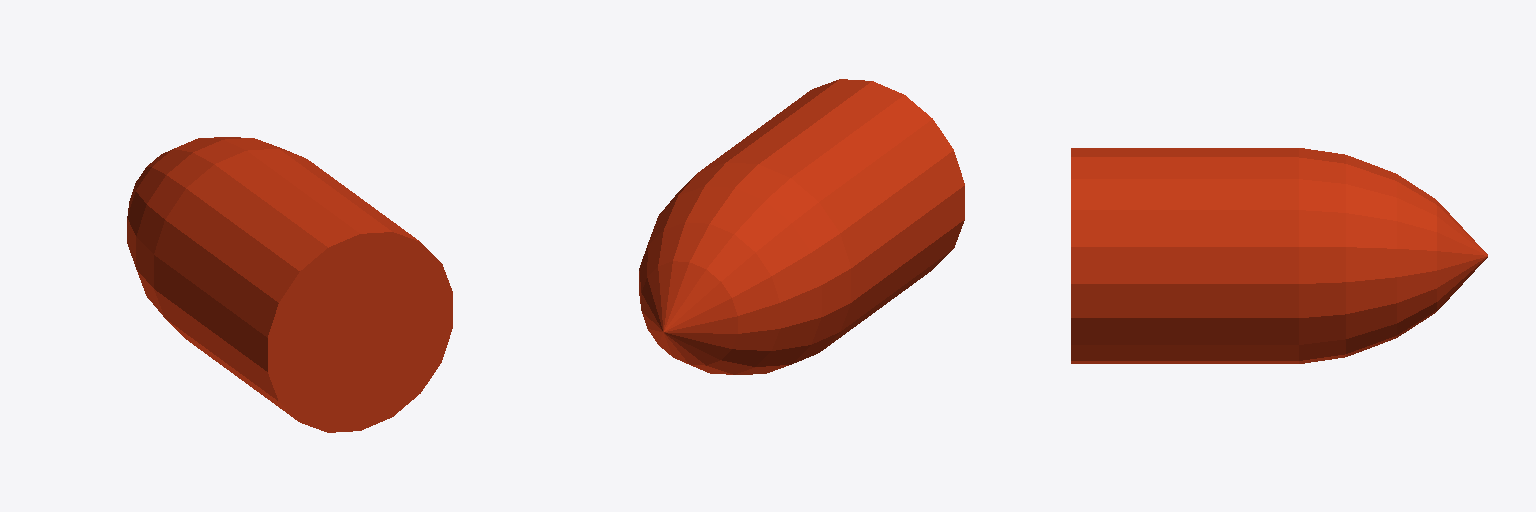
File: tankRound.obj
The picture shows the model from 3 angles: view 1: azimuth 30°, elevation 25°; view 2: azimuth 150°, elevation 25°; view 3: azimuth 270°, elevation 25°; orthographic projection.
Parts seen in each view (by area): view 1: Main_Gun_Focus_Grenade; view 2: Main_Gun_Focus_Grenade; view 3: Main_Gun_Focus_Grenade.
Part boxes in pixels (x1,y1,x2,y2): Main_Gun_Focus_Grenade: (127, 137, 452, 432); Main_Gun_Focus_Grenade: (639, 79, 964, 374); Main_Gun_Focus_Grenade: (1071, 148, 1487, 363).
Bounding box in the file's own units: 0.1733 × 0.176 × 0.338.